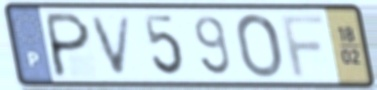5: (141, 12, 187, 78)
9: (192, 14, 234, 78)
F: (278, 13, 326, 80)
O: (233, 11, 285, 80)
P: (45, 10, 93, 81)
V: (88, 13, 135, 77)
